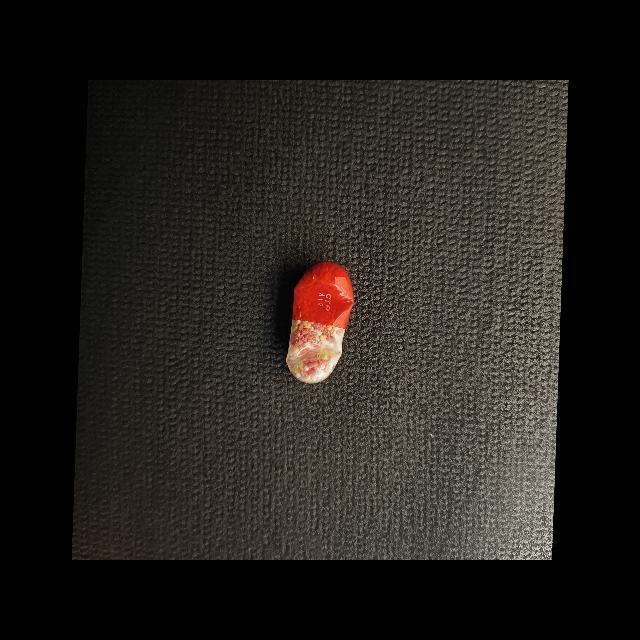Defective Capsule: (286, 261, 354, 384)
